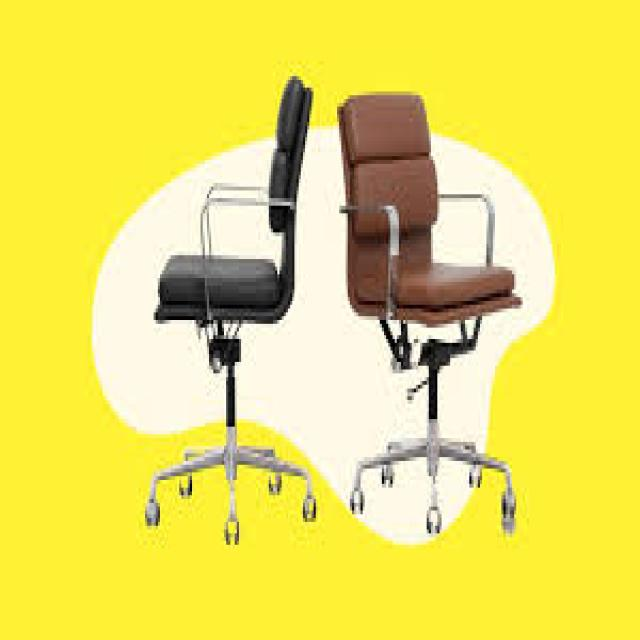chair: (327, 72, 531, 602), (136, 70, 324, 620)
